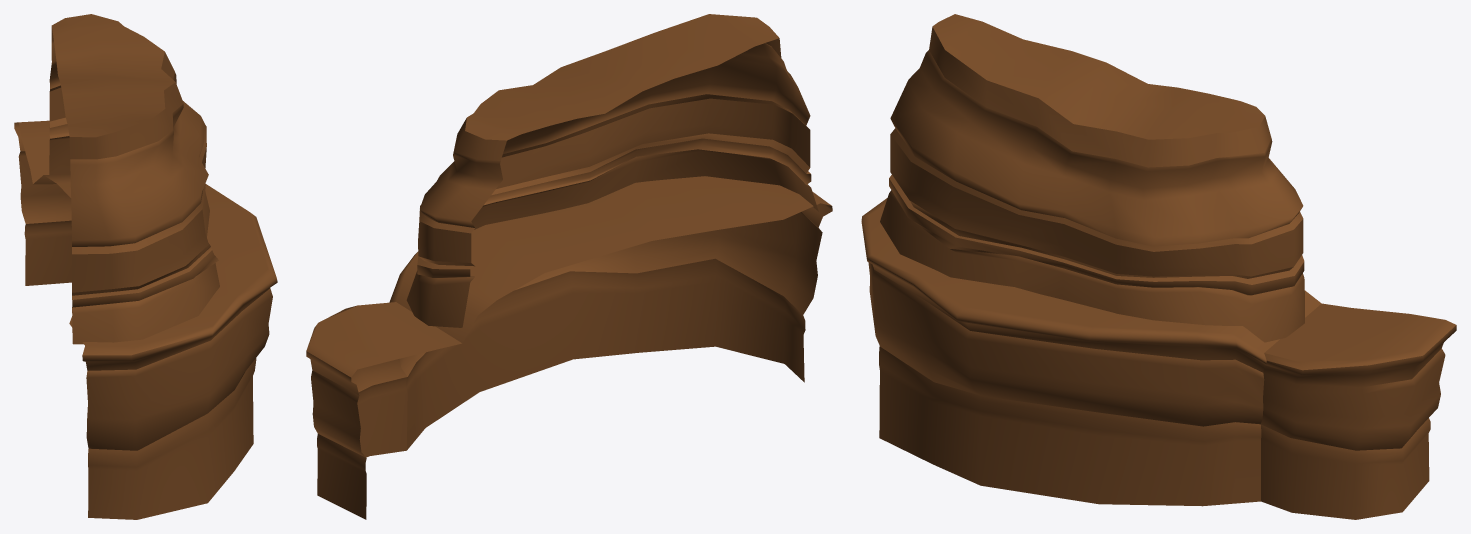
File: Left Tier Mountain.fbx
3 renders of one model, left to right at view 1: azimuth 30°, elevation 25°; view 2: azimuth 150°, elevation 25°; view 3: azimuth 270°, elevation 25°, orthographic. The views are drawn at different scales.
Visible parts, largest first — view 1: LftMtnTier_02, LftMtnTier_01; view 2: LftMtnTier_02, LftMtnTier_01; view 3: LftMtnTier_02, LftMtnTier_01.
Boxes of the visible parts, x1,y1,x2,y2 form: LftMtnTier_02: [14, 120, 277, 519]; LftMtnTier_01: [49, 14, 219, 344]; LftMtnTier_02: [306, 176, 832, 519]; LftMtnTier_01: [406, 14, 818, 327]; LftMtnTier_02: [861, 198, 1456, 519]; LftMtnTier_01: [880, 14, 1304, 342].
Bounding box in the file's own units: 176 × 214 × 305.
